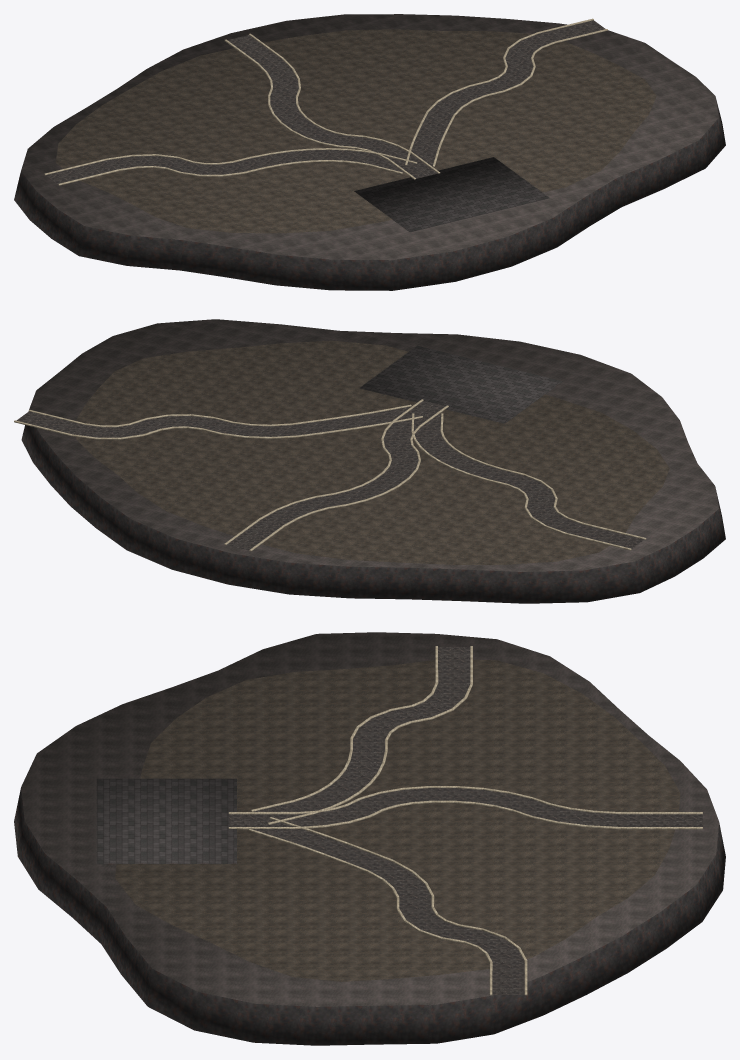
Rendered from 14_KuzniaHefajstosa_teren.glb.
3 renders of one model, top to bottom at view 1: azimuth 30°, elevation 25°; view 2: azimuth 150°, elevation 25°; view 3: azimuth 270°, elevation 25°, orthographic. The views are drawn at different scales.
Visible parts, largest first — view 1: ash, island.001, forge_floor, path_0.013, path_2.005, path_1.008; view 2: ash, island.001, forge_floor, path_0.013, path_2.005, path_1.008; view 3: ash, island.001, forge_floor, path_2.005, path_0.013, path_1.008.
Part boxes in pixels (x1,y1,x2,y2): ash: (55,29,656,233); island.001: (14,14,725,290); forge_floor: (354,157,549,232); path_0.013: (227,35,437,178); path_2.005: (411,20,605,166); path_1.008: (46,150,403,183); ash: (76,340,669,564); island.001: (21,319,725,603); forge_floor: (359,345,562,423); path_0.013: (227,400,445,550); path_2.005: (16,406,417,437); path_1.008: (413,414,644,548); ash: (115,659,680,981); island.001: (14,632,725,1045); forge_floor: (96,778,236,864); path_2.005: (252,820,524,994); path_0.013: (229,788,702,826); path_1.008: (253,647,470,820).
Size of what is drawn, in the model's own units: 233 by 10.44 by 184.
Materials: 6 (6 with a texture image).
